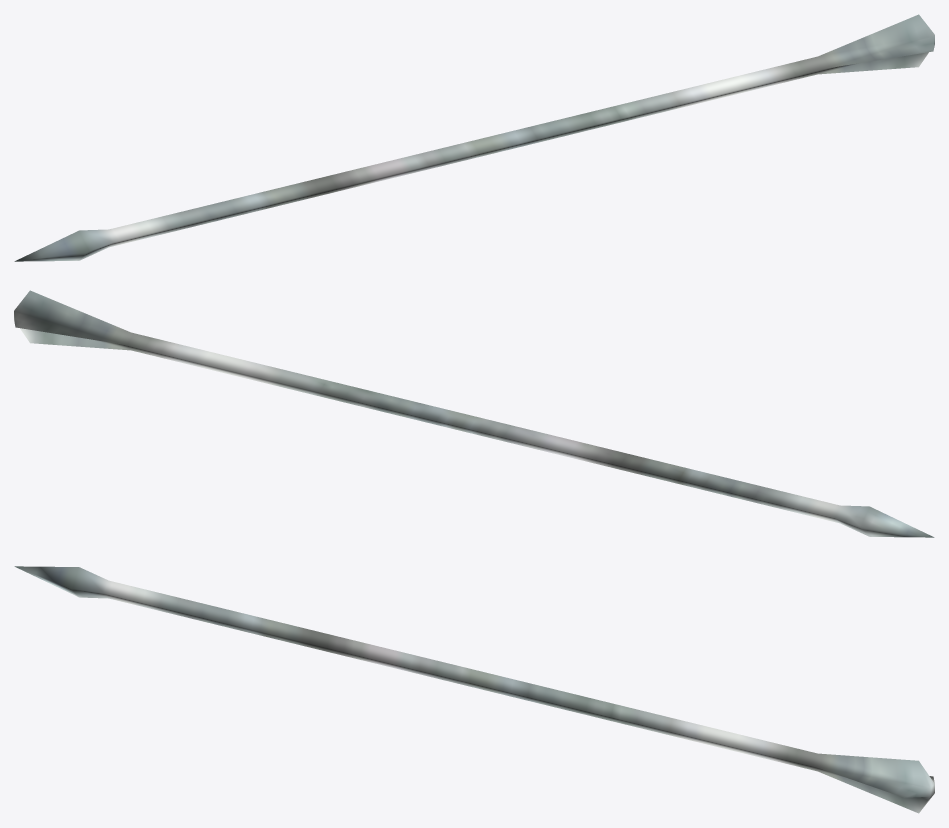
File: wp_arrow1.glb
3 renders of one model, top to bottom at view 1: azimuth 30°, elevation 25°; view 2: azimuth 150°, elevation 25°; view 3: azimuth 330°, elevation 25°, orthographic.
Visible parts, largest first — view 1: wp_arrow1; view 2: wp_arrow1; view 3: wp_arrow1.
Part boxes in pixels (left/top/right/bottom): wp_arrow1: left=14, top=14, right=934, bottom=261; wp_arrow1: left=14, top=290, right=934, bottom=537; wp_arrow1: left=14, top=566, right=934, bottom=813.
Size of the model in its own units: 0.4701 by 0.0258 by 0.0258.
Materials: 1 (1 with a texture image).
